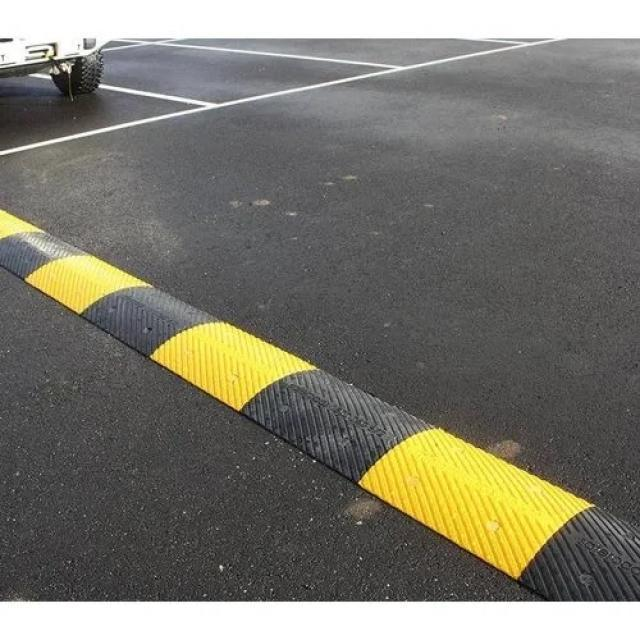speedbreaker: (0, 190, 640, 596)
